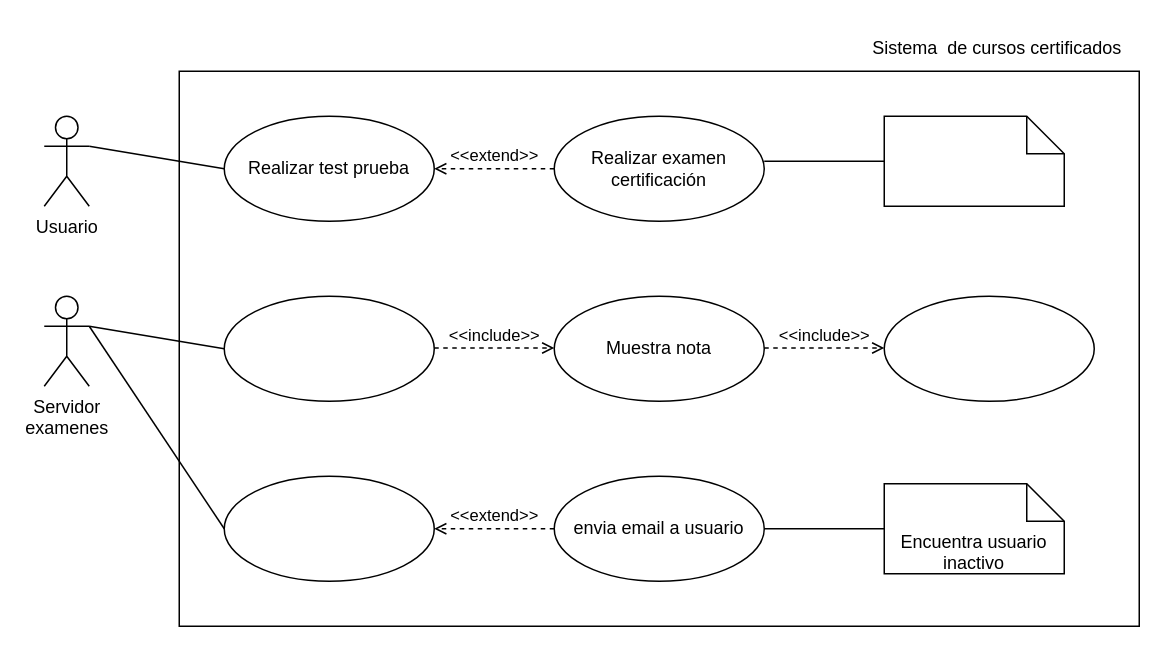
This 1166x653 diagram has some shape labels left out. The shapes that lost their labels are listed below. From the top down, each one's centre as x and y in pixels, then its label:
At point 973,160: "Sacar 9.5 o mas en el test".
At point 328,348: "Corrige examen".
At point 988,348: "Almacena nota".
At point 328,528: "Comprueba actividad usuarios".
